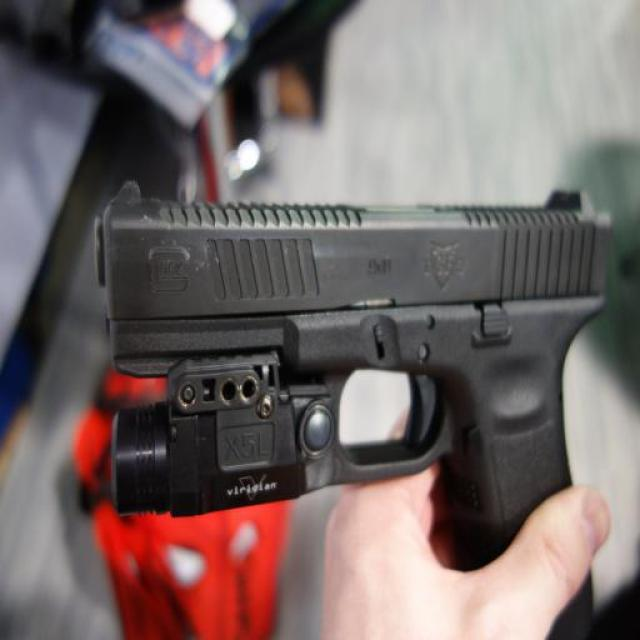pistol: (92, 180, 616, 640)
